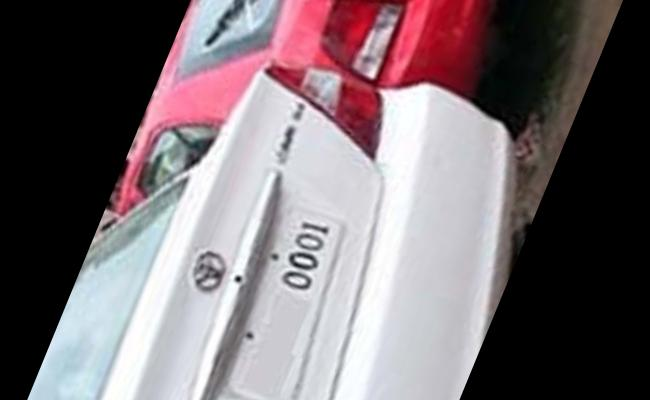plate: (220, 196, 359, 400)
